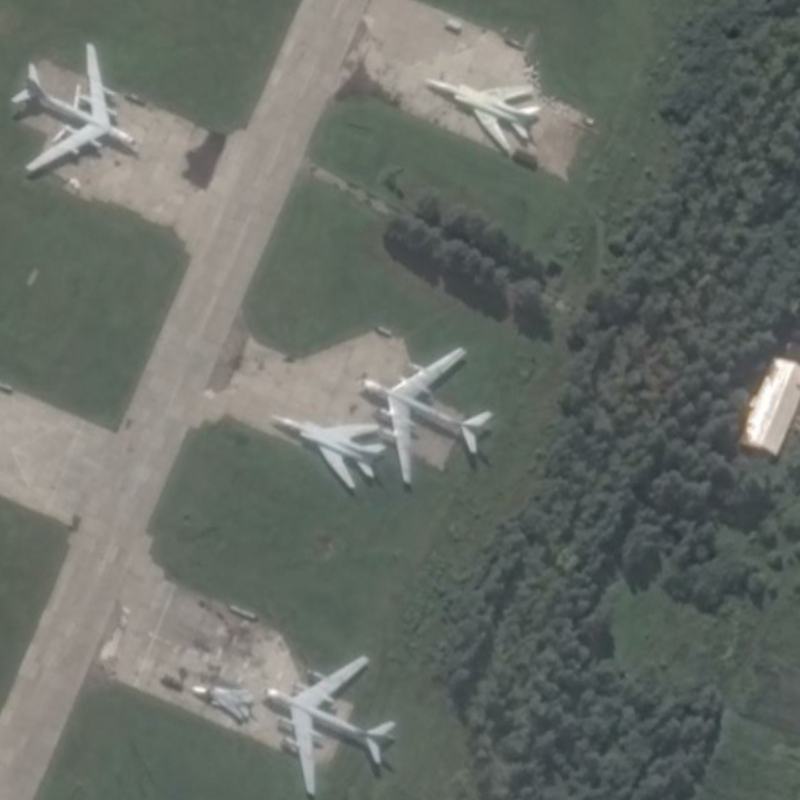A12: (268, 412, 387, 490), (423, 76, 542, 154)
A17: (263, 653, 400, 798), (359, 344, 494, 486), (8, 39, 138, 175)
A20: (189, 683, 254, 721)
